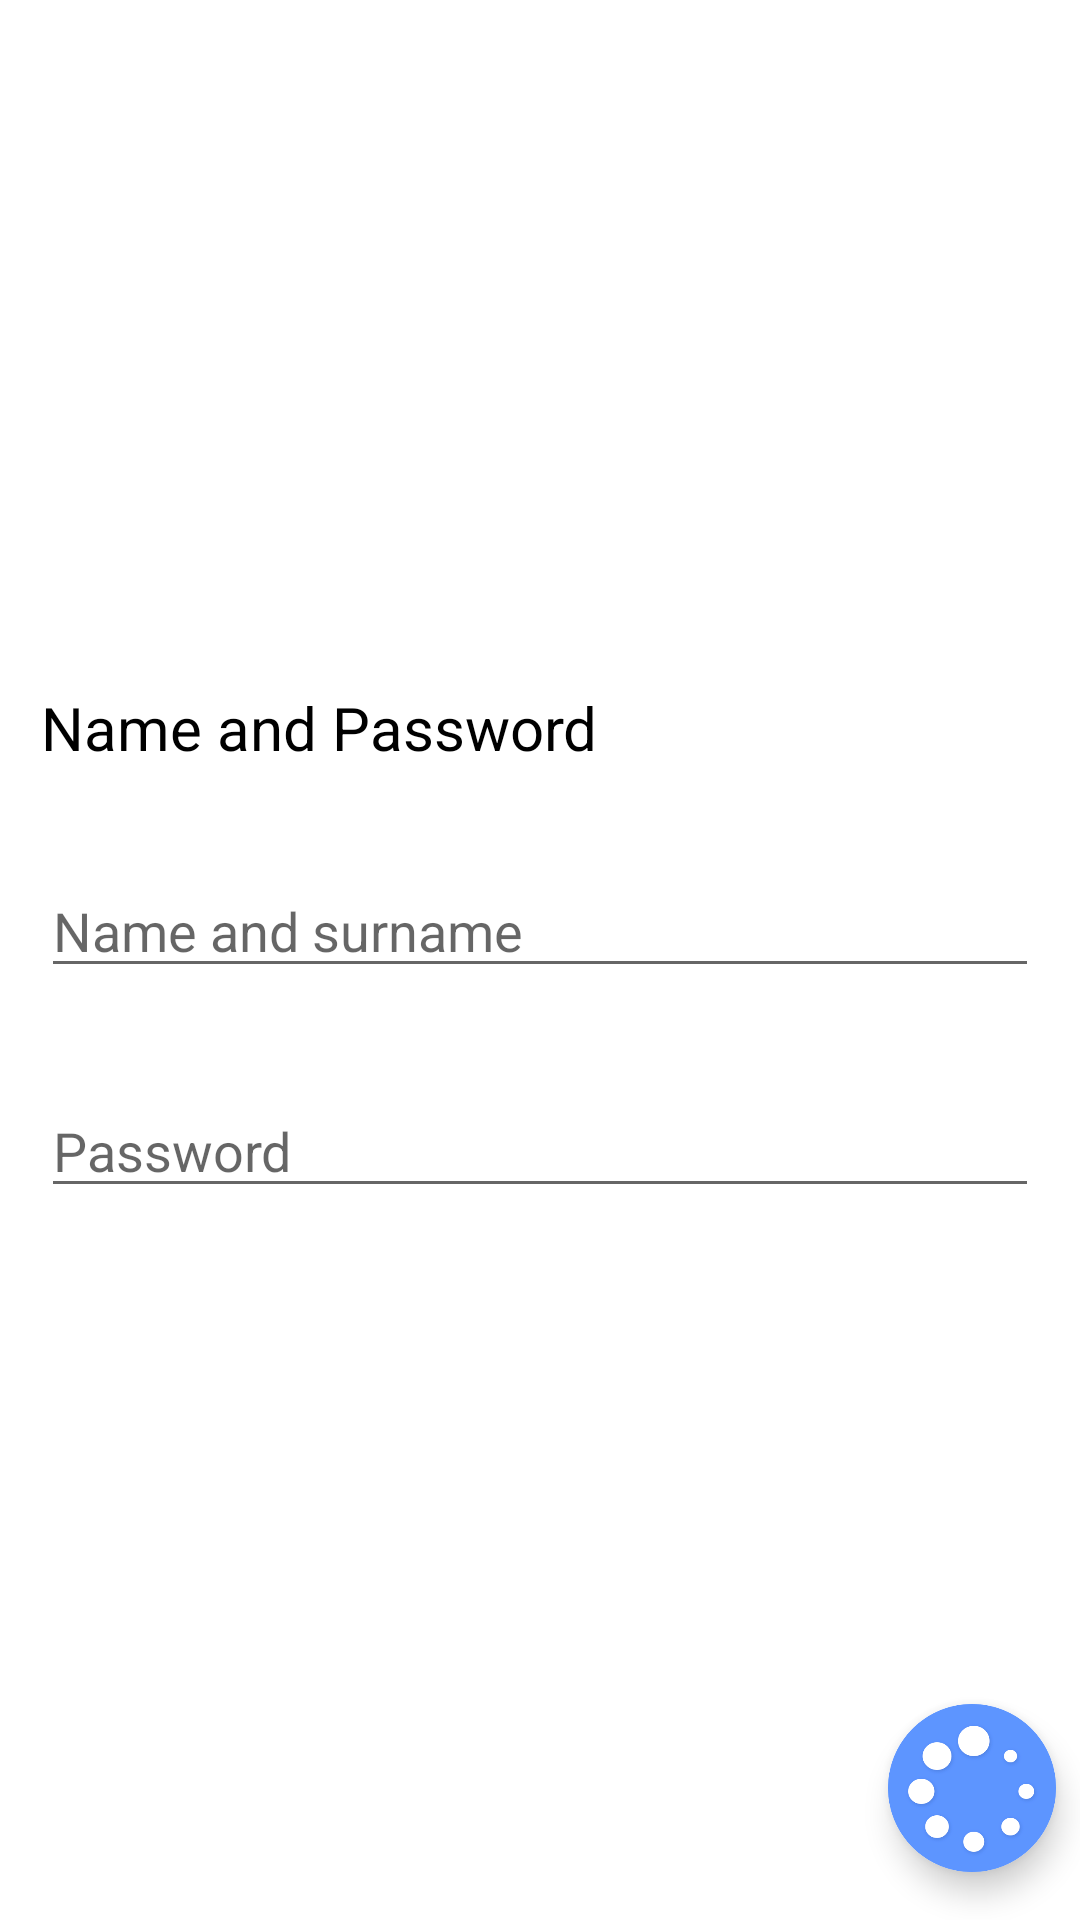

Point at icon controls on the screen. Image size 1080px×1920px, points as (x=x, y=y).
next step loader: (x=972, y=1788)
